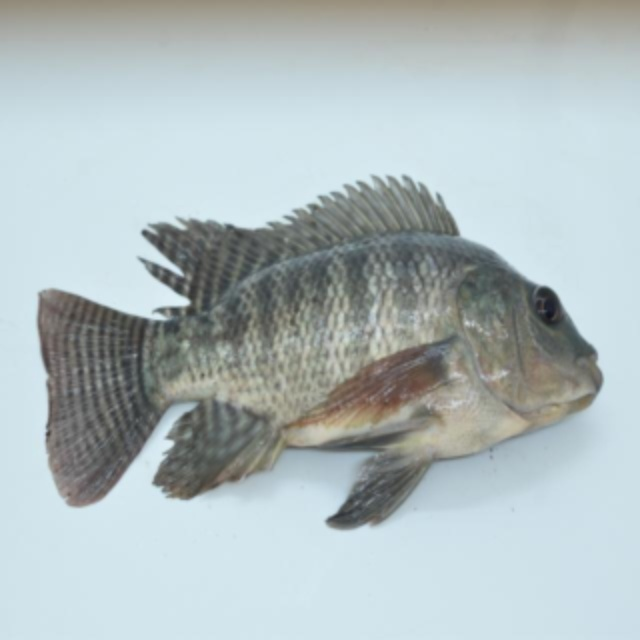Healthy Fish: (34, 175, 605, 531)
